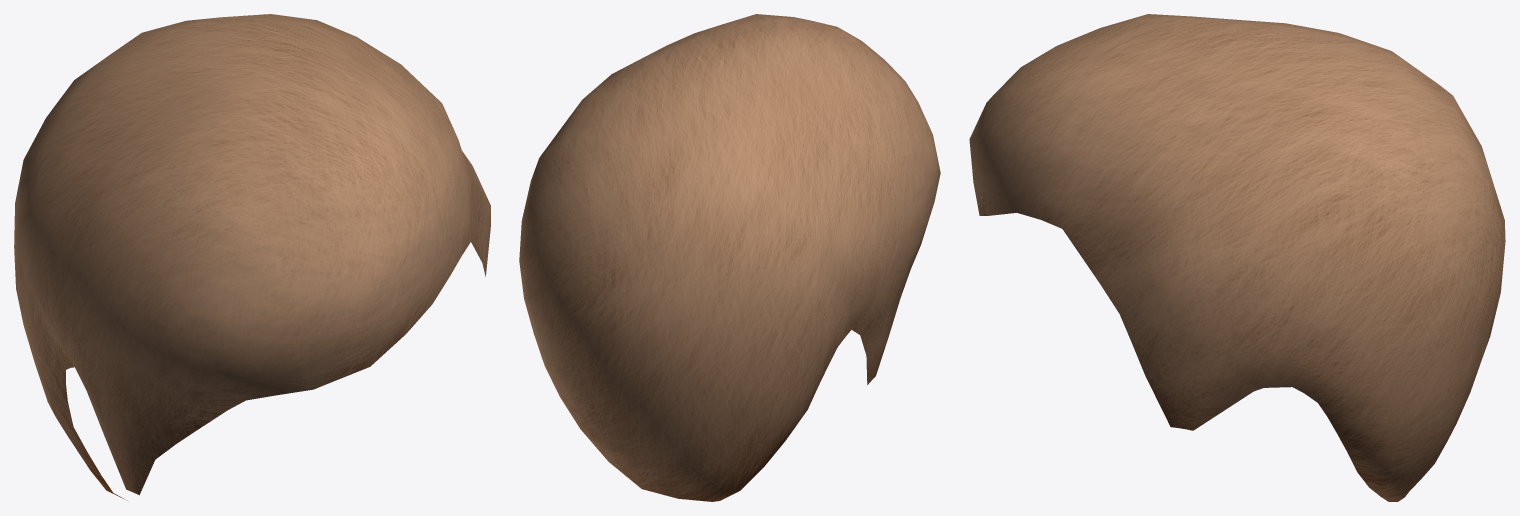
The model's file is Hair02.glb.
3 views of the same model, side by side, from view 1: azimuth 30°, elevation 25°; view 2: azimuth 150°, elevation 25°; view 3: azimuth 270°, elevation 25° (orthographic). The views are drawn at different scales.
Parts seen in each view (by area): view 1: Hair02_Geo; view 2: Hair02_Geo; view 3: Hair02_Geo.
Boxes of the visible parts, x1,y1,x2,y2 form: Hair02_Geo: (14, 14, 490, 500); Hair02_Geo: (519, 14, 940, 501); Hair02_Geo: (969, 14, 1505, 501).
Size of the model in its own units: 0.1697 by 0.2046 by 0.214.
Materials: 1 (1 with a texture image).
